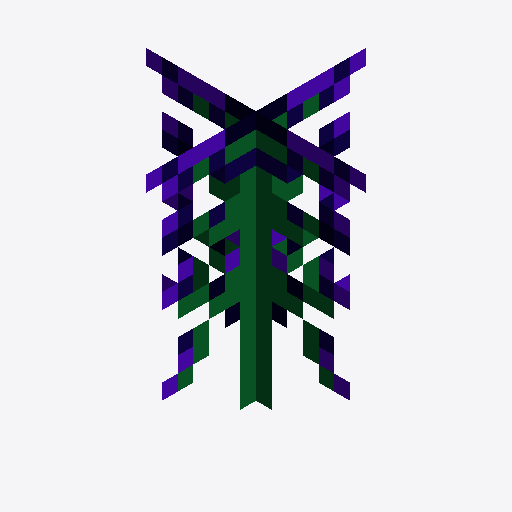
Isometric view (azimuth 45°, elevation 35.3°) of a Minecraft model made of 66 cuboids, textured from the same repository.
Parts seen in each view (by area): BottomStalk (×2), element 29, element 60, element 6, element 31, element 57, element 62, element 2, element 59, element 30, element 63, element 3 (+27 smaller).
Boxes of the visible parts, x1=… form: BottomStalk (×2): x1=240, y1=102, x2=271, y2=409; element 29: x1=209, y1=193, x2=239, y2=246; element 60: x1=272, y1=193, x2=302, y2=246; element 6: x1=178, y1=320, x2=208, y2=372; element 31: x1=162, y1=202, x2=192, y2=255; element 57: x1=303, y1=320, x2=333, y2=372; element 62: x1=319, y1=202, x2=349, y2=255; element 2: x1=225, y1=247, x2=239, y2=327; element 59: x1=272, y1=247, x2=286, y2=327; element 30: x1=319, y1=112, x2=349, y2=155; element 63: x1=162, y1=112, x2=192, y2=155; element 3: x1=225, y1=121, x2=239, y2=182.
Bounding box in the file's own units: 14 × 16 × 14.